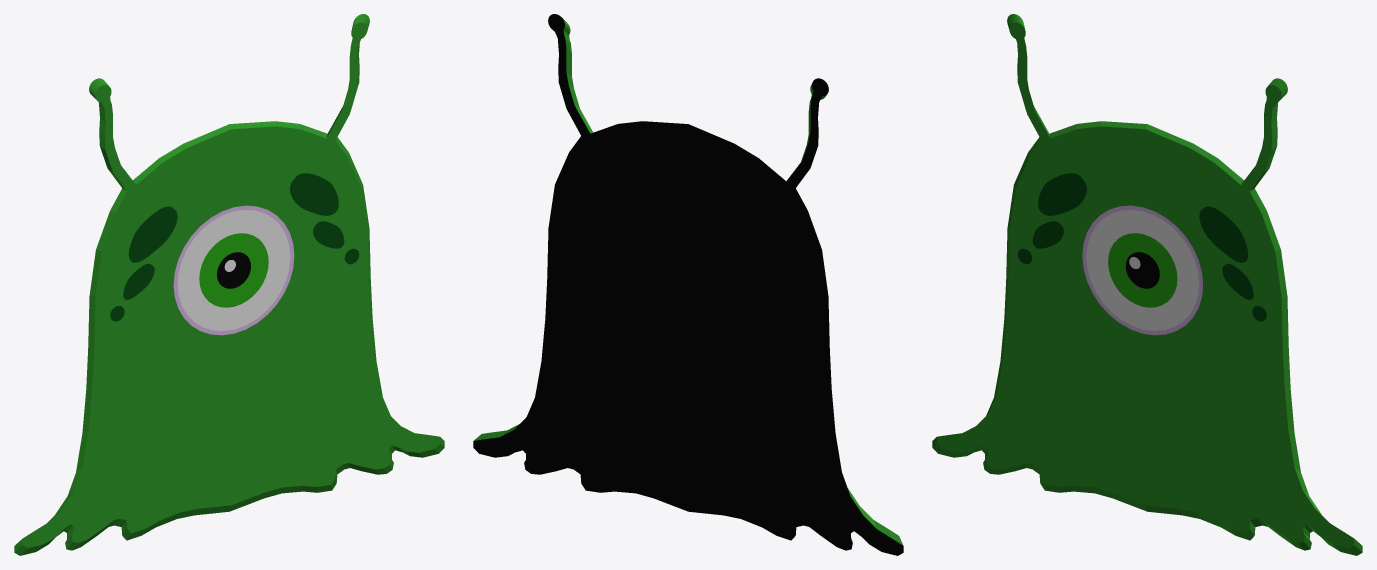
Rendered from alien.fbx.
3 renders of one model, left to right at view 1: azimuth 30°, elevation 25°; view 2: azimuth 150°, elevation 25°; view 3: azimuth 330°, elevation 25°, orthographic.
Parts seen in each view (by area): view 1: Plane; view 2: Plane; view 3: Plane.
Part boxes in pixels (bbox=[...]): Plane: bbox=[14, 14, 444, 555]; Plane: bbox=[473, 14, 903, 555]; Plane: bbox=[932, 14, 1362, 555].
Bounding box in the file's own units: 201 × 210 × 5.44.
